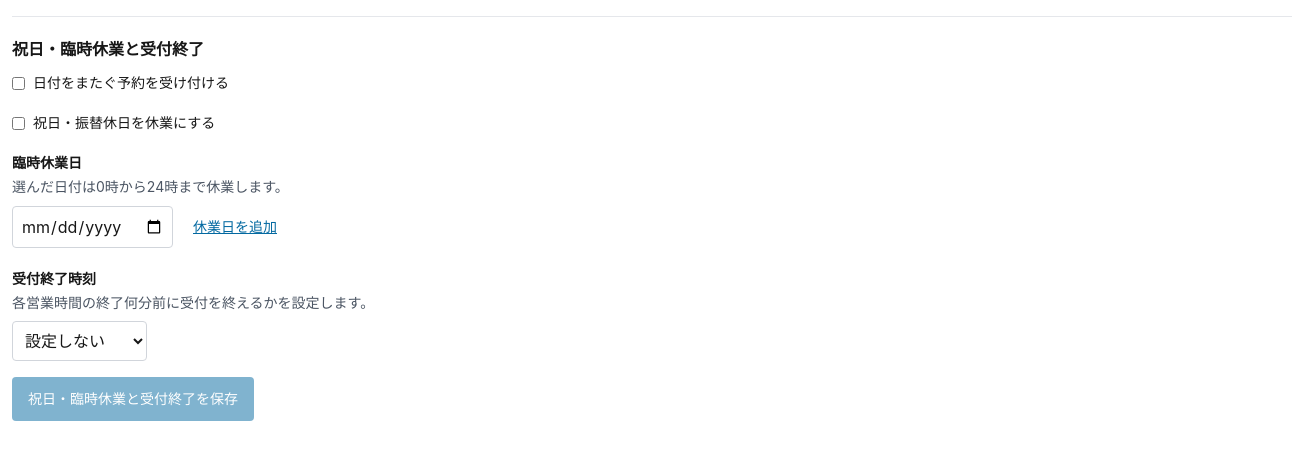
Scenario: loads the selected store, saves its own setting and confirms the saved revision
Click the checkbox labelled "祝日・振替休日を休業にする" at [18, 123], box top-left (12, 116), bottom-right (25, 130)
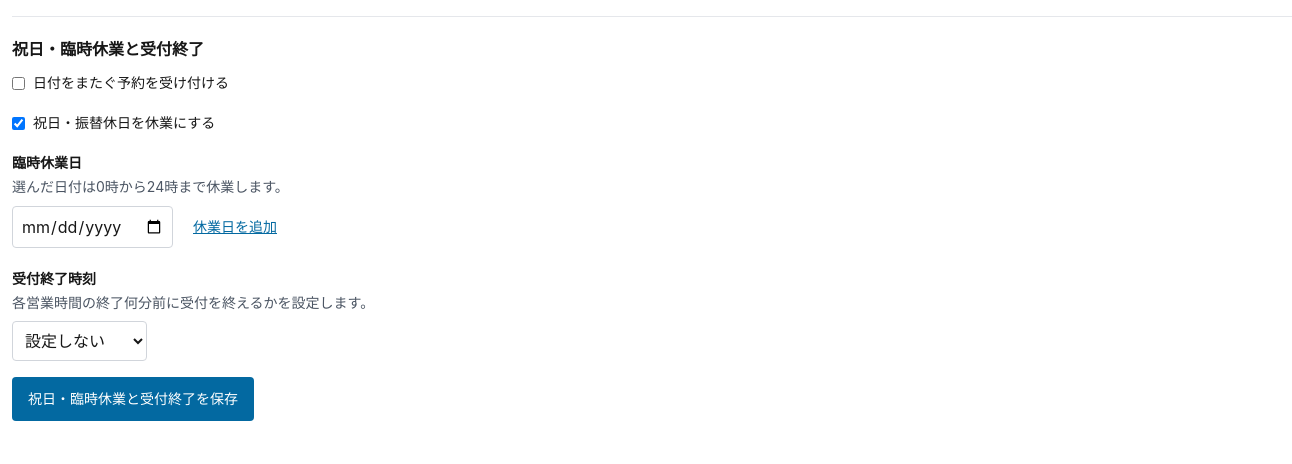
Click the button "祝日・臨時休業と受付終了を保存" at [133, 399], box top-left (12, 377), bottom-right (254, 421)
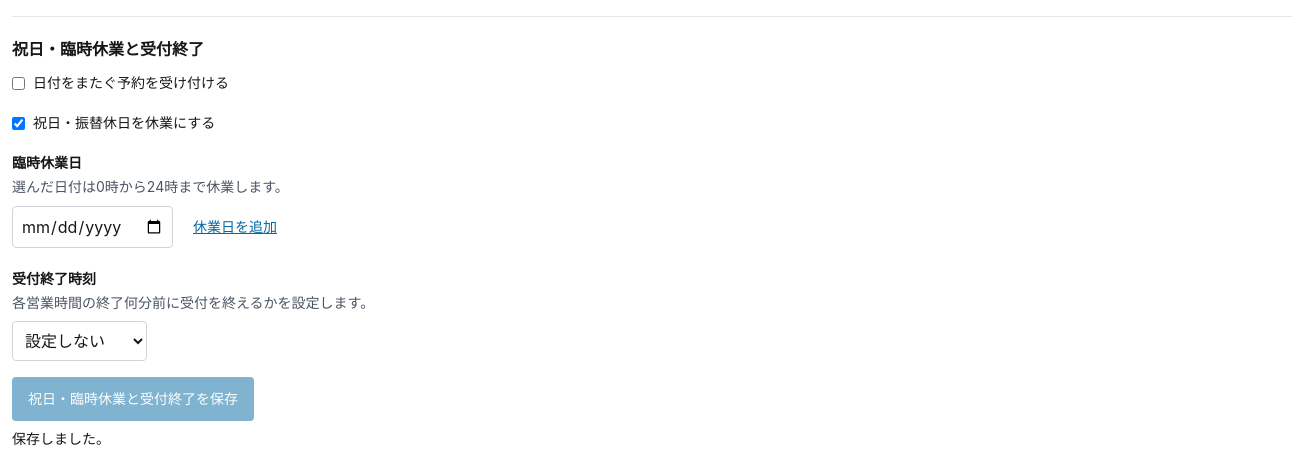
Expected: the text "保存しました。" is shown, top-left (12, 430), bottom-right (110, 447)
Expected: the button "祝日・臨時休業と受付終了を保存" is disabled, top-left (12, 377), bottom-right (254, 421)
